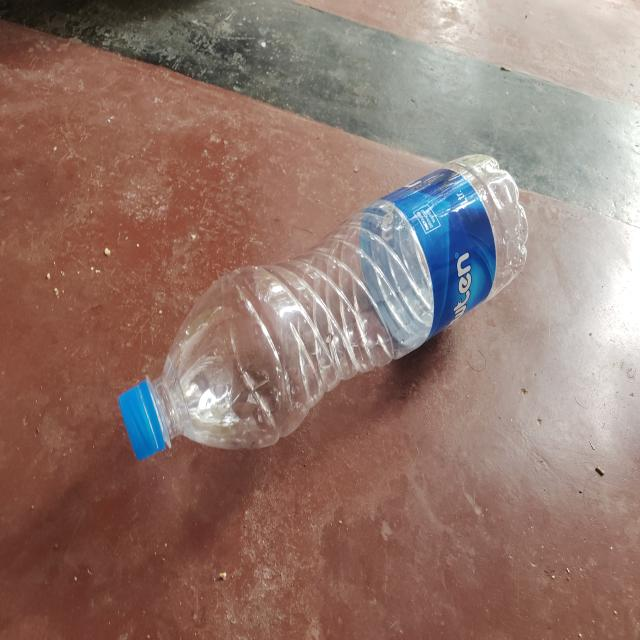plastic: (116, 145, 535, 468)
